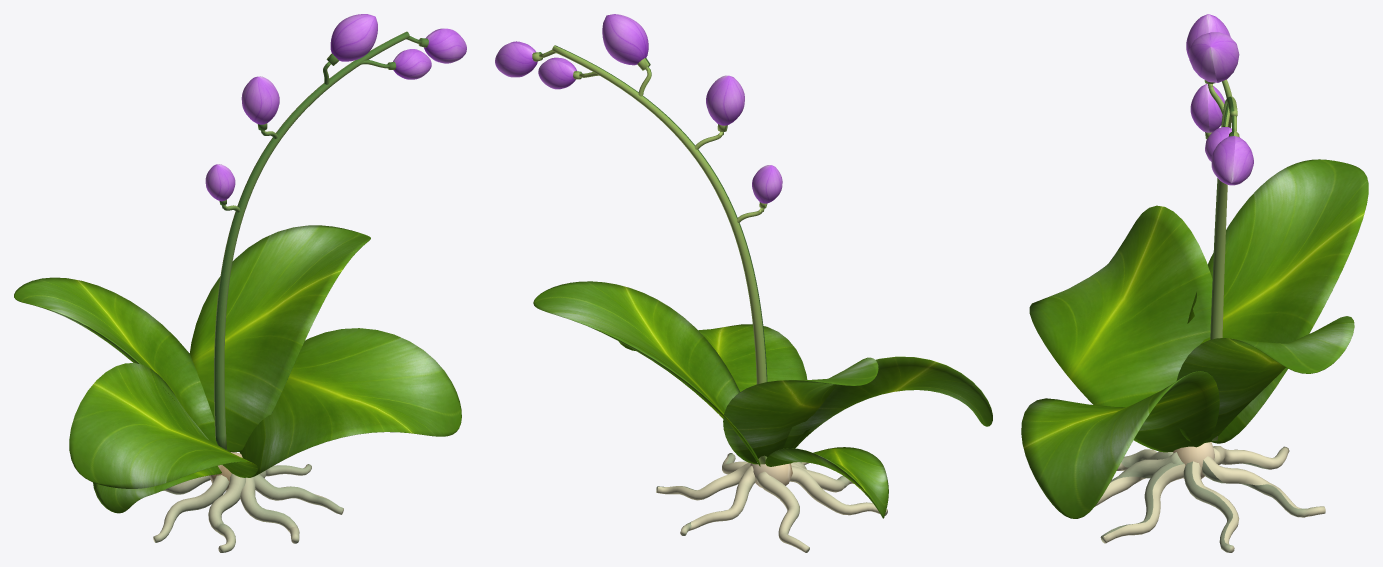
File: NP_Orchid_BudForming.fbx
3 views of the same model, side by side, from view 1: azimuth 30°, elevation 25°; view 2: azimuth 150°, elevation 25°; view 3: azimuth 270°, elevation 25° (orthographic). The views are drawn at different scales.
Visible parts, largest first — view 1: NP_Orchid_BudForming; view 2: NP_Orchid_BudForming; view 3: NP_Orchid_BudForming.
Part boxes in pixels (x1,y1,x2,y2): NP_Orchid_BudForming: (14,14,466,552); NP_Orchid_BudForming: (495,14,992,552); NP_Orchid_BudForming: (1021,14,1368,552).
Size of the model in its own units: 90.22 by 88.23 by 50.87.
